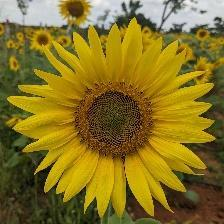sunflower: (7, 18, 216, 219)
